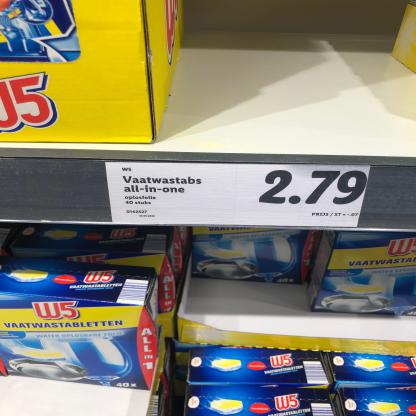prtg: (106, 162, 371, 228)
